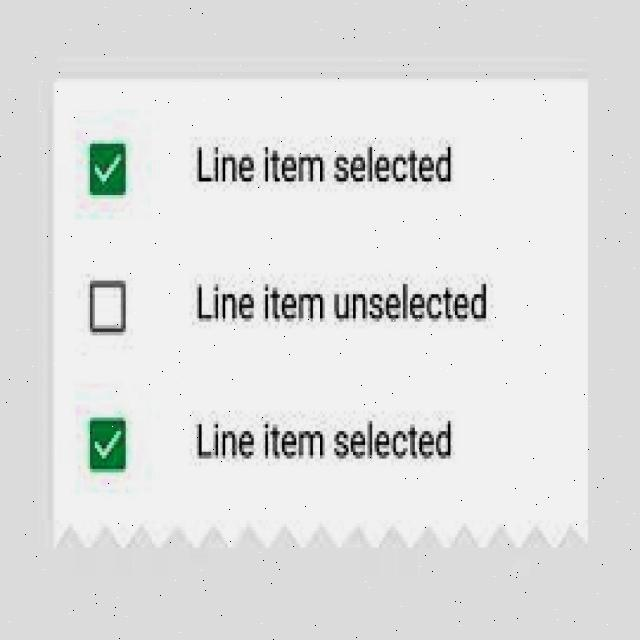checkbox: (89, 142, 126, 196), (90, 416, 126, 470), (89, 279, 126, 330)
label: (189, 270, 501, 330), (185, 404, 460, 464), (192, 139, 458, 189)
